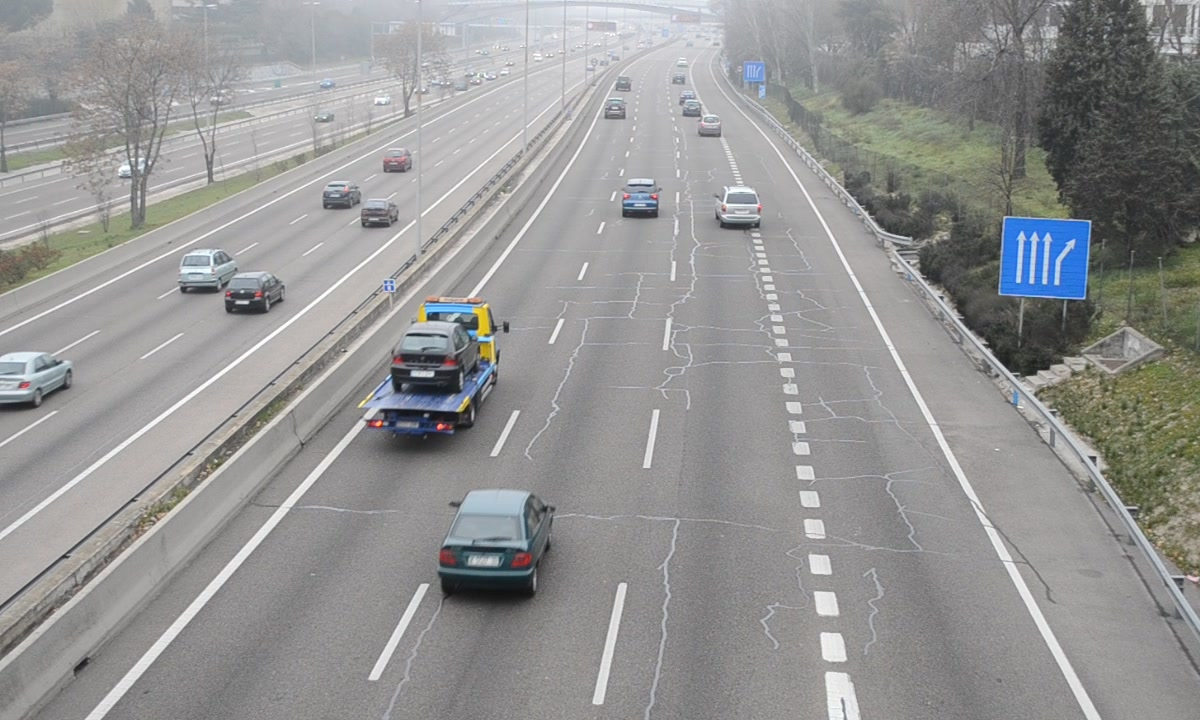car: (437, 490, 550, 584), (716, 186, 762, 230), (620, 178, 660, 217), (697, 111, 723, 136), (604, 98, 626, 118)
small-truck: (356, 298, 500, 434)
